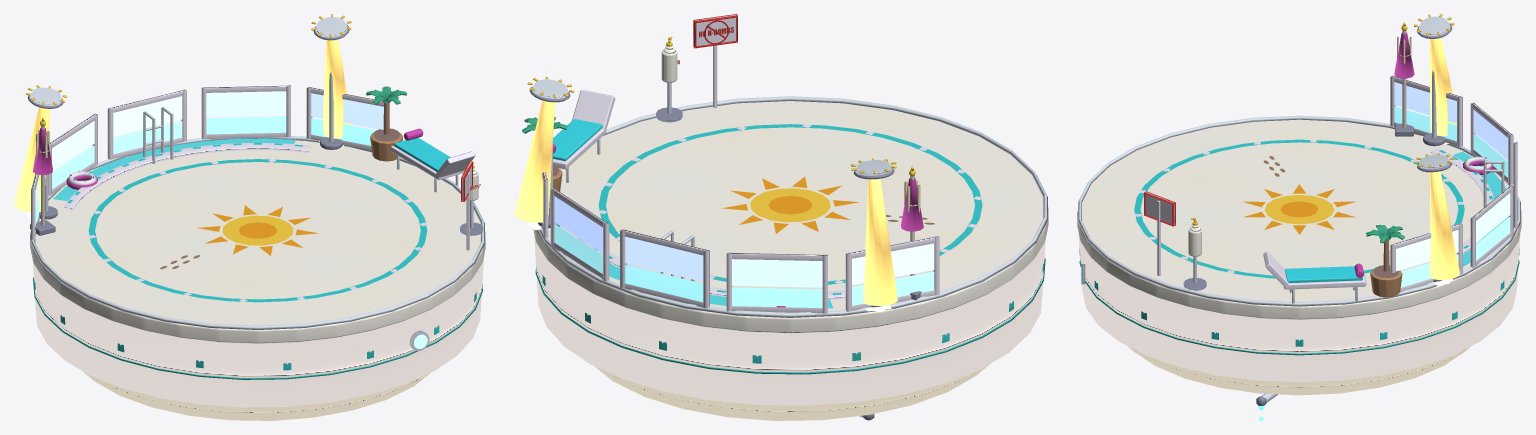
Rendered from arena_solarium.glb.
3 renders of one model, left to right at view 1: azimuth 30°, elevation 25°; view 2: azimuth 150°, elevation 25°; view 3: azimuth 270°, elevation 25°, orthographic. The views are drawn at different scales.
Visible parts, largest first — view 1: Deck, Body, Rim, Marks, Pool; view 2: Body, Deck, Rim, Marks, Pool; view 3: Body, Deck, Rim, Marks, Pool.
Part boxes in pixels (x1,y1,x2,y2): Deck: [44, 141, 471, 321]; Body: [30, 136, 485, 420]; Rim: [14, 14, 483, 250]; Marks: [88, 159, 427, 302]; Pool: [53, 107, 310, 210]; Body: [533, 96, 1048, 420]; Deck: [560, 102, 1034, 306]; Rim: [514, 14, 939, 313]; Marks: [598, 124, 982, 284]; Pool: [576, 230, 845, 308]; Body: [1077, 115, 1521, 420]; Deck: [1089, 121, 1483, 298]; Rim: [1144, 14, 1517, 303]; Marks: [1134, 139, 1464, 278]; Pool: [1430, 147, 1507, 266].
Size of the model in its own units: 7.06 by 4.72 by 6.99.
